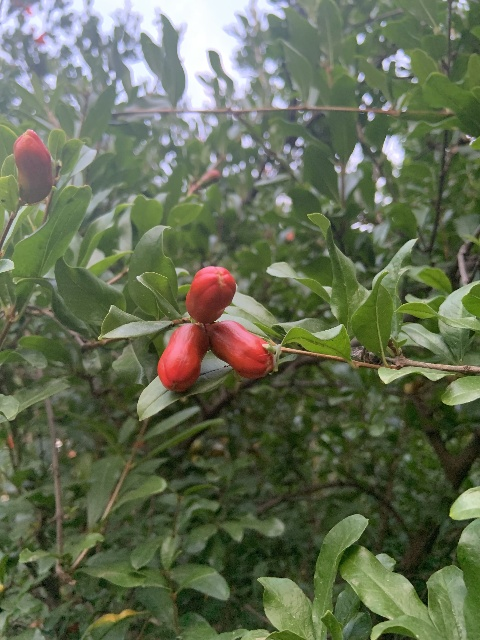bud: (208, 321, 273, 379), (157, 323, 208, 392), (184, 265, 236, 323), (13, 129, 52, 203), (200, 170, 221, 186)
